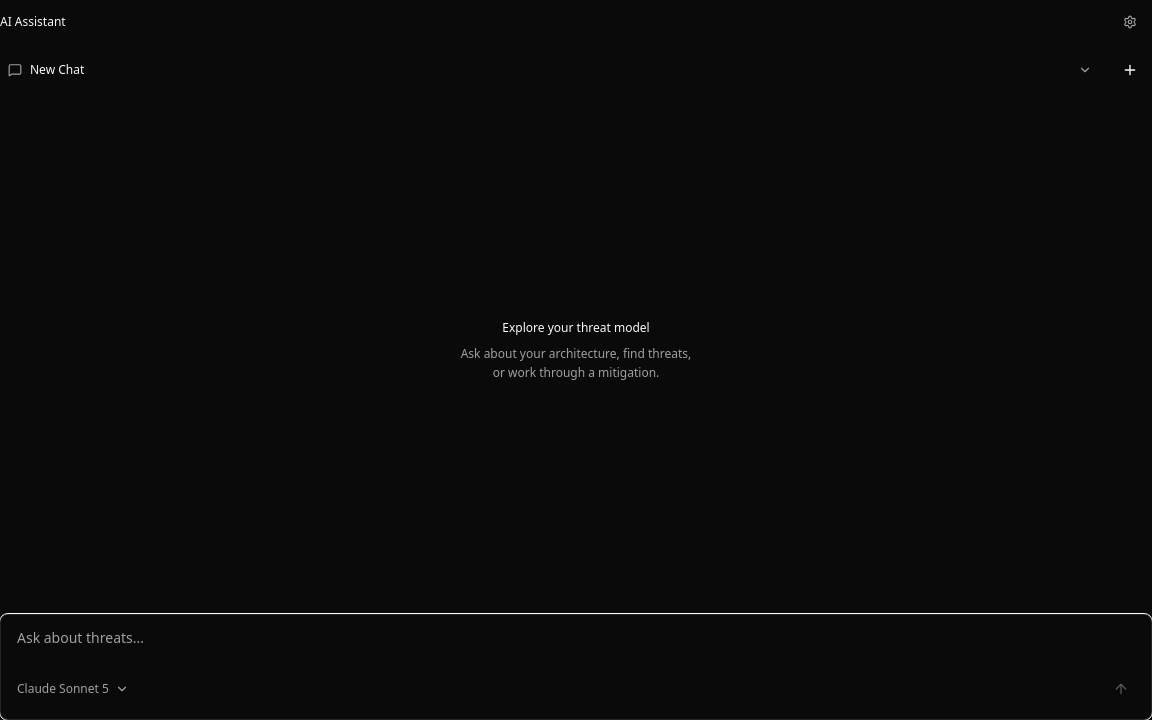
Test: chat picker accessibility › keeps keyboard focus through delete confirmation, cancellation, and deletion
Step 1. Click the button with aria-label "Choose chat" → [57, 70], box x1=0 y1=48 x2=1100 y2=92
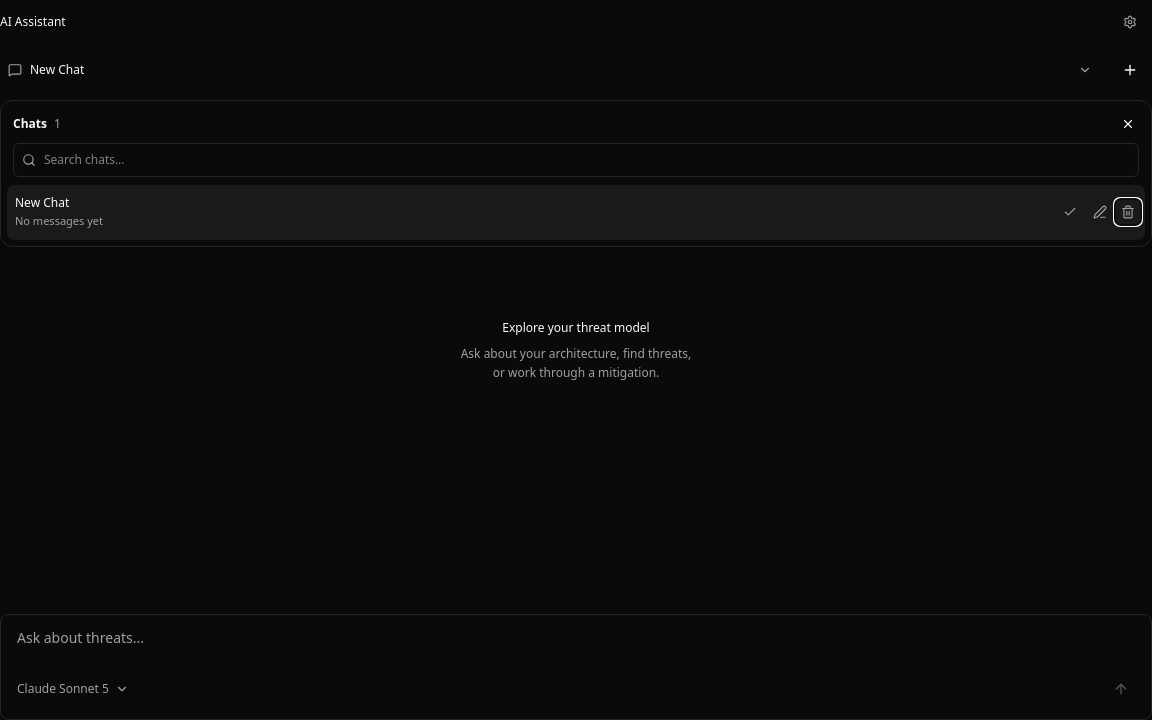
Step 2. Click the button named "Delete chat: New Chat" → [1128, 212], box x1=1115 y1=199 x2=1141 y2=225
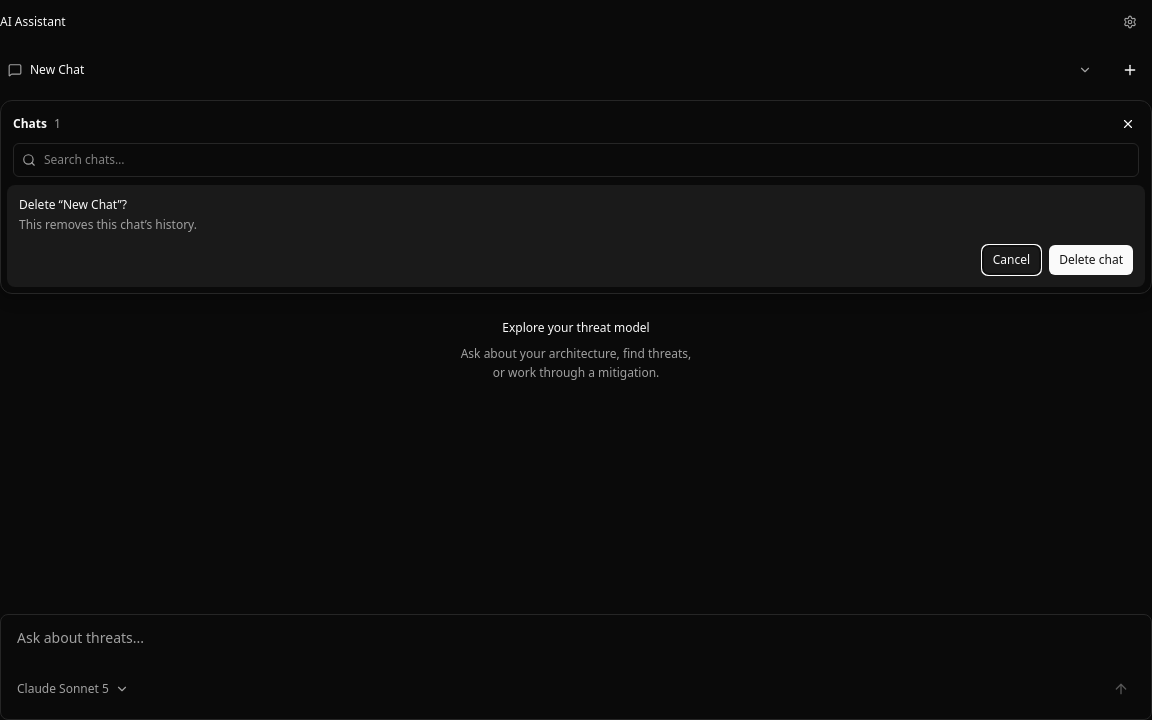
Step 3. Press Escape in the button "Cancel", box x1=982 y1=245 x2=1041 y2=275
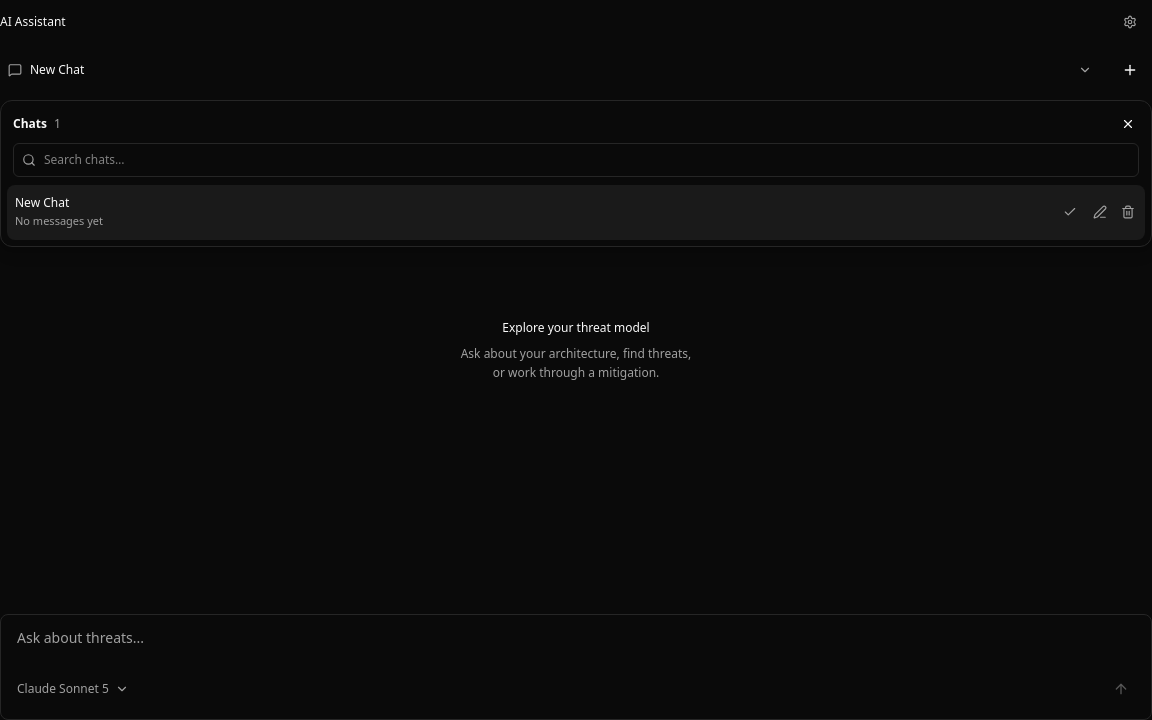
Check: the button "Delete chat" is gone
Step 4. Click the button named "Delete chat: New Chat" → [1128, 212], box x1=1115 y1=199 x2=1141 y2=225
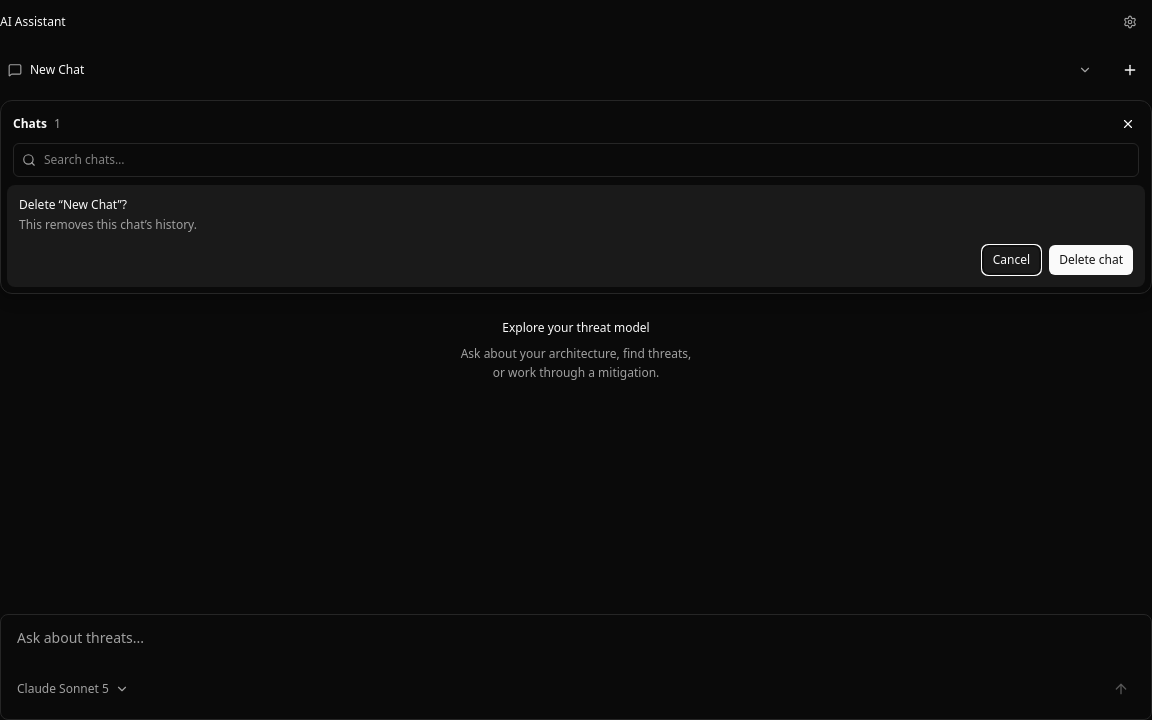
Step 5. Click the button "Delete chat" → [1091, 260], box x1=1049 y1=245 x2=1133 y2=275
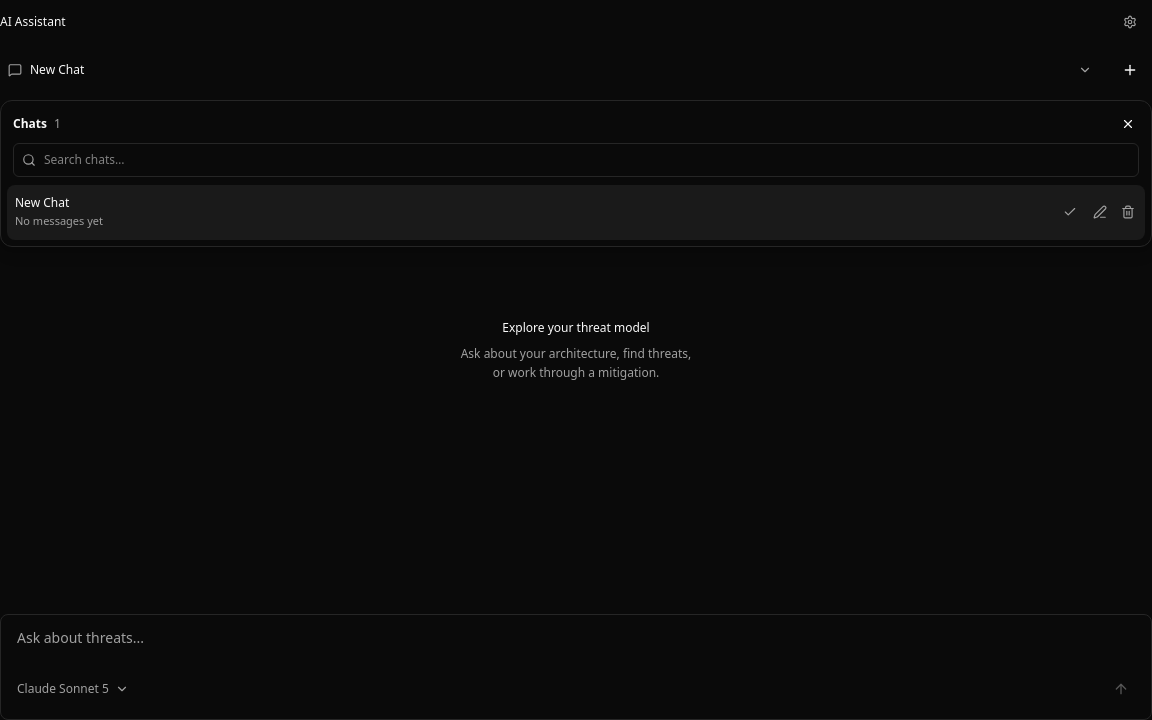
Check: the button with aria-label "Open chat: New Chat" is shown, box x1=7 y1=185 x2=1085 y2=240
